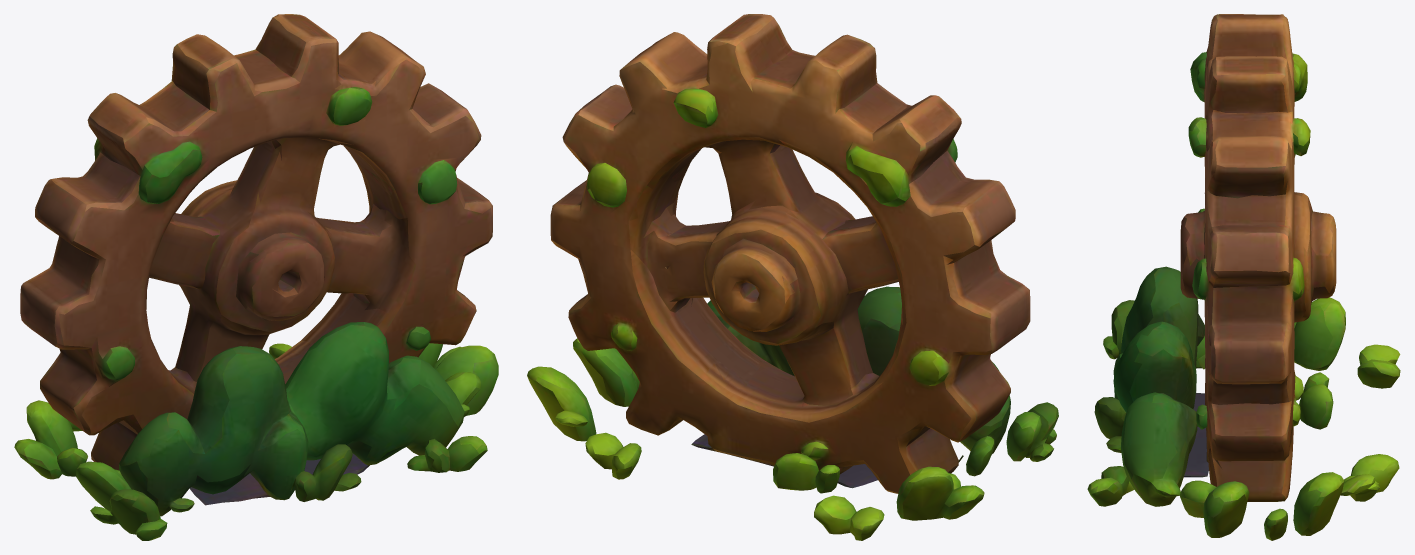
Rendered from a-giant-brass-cogwheel-half-buri-2c7bbd.glb.
3 views of the same model, side by side, from view 1: azimuth 30°, elevation 25°; view 2: azimuth 150°, elevation 25°; view 3: azimuth 270°, elevation 25° (orthographic). The views are drawn at different scales.
Visible parts, largest first — view 1: geometry_0; view 2: geometry_0; view 3: geometry_0.
Part boxes in pixels (left/top/right/bottom): geometry_0: left=14, top=14, right=498, bottom=540; geometry_0: left=527, top=14, right=1058, bottom=540; geometry_0: left=1087, top=14, right=1400, bottom=540.
Size of the model in its own units: 1 by 0.8787 by 0.6186.
Materials: 1 (1 with a texture image).
